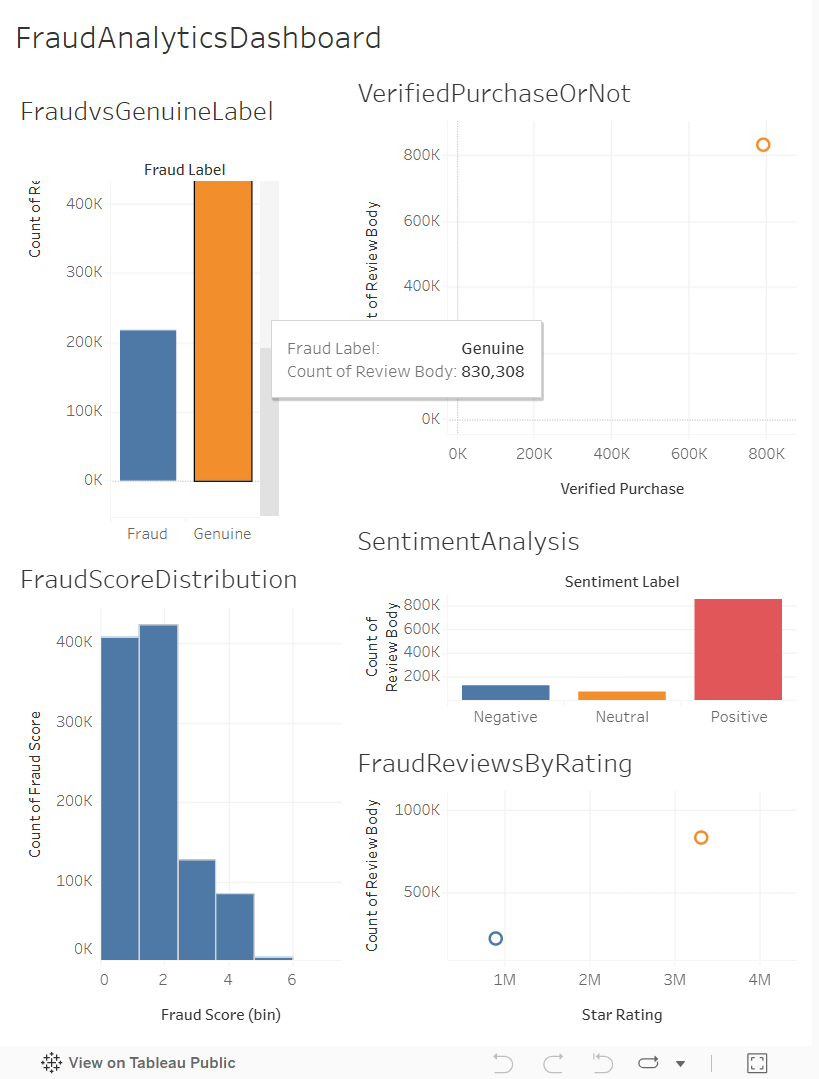

What the dashboard file says about the page in this screenshot:
{"tool":"tableau","page":{"name":"FraudAnalyticsDashboard","canvas":[650,860],"ordinal":0},"visuals":[{"type":"title","box":[8,8.5,634,53]},{"type":"worksheet","title":"FraudvsGenuineLabel","mark":"Automatic","rows":["review_body"],"cols":["fraud_label"],"box":[8,61.4,270,395]},{"type":"worksheet","title":"VerifiedPurchaseOrNot","mark":"Automatic","rows":["review_body"],"cols":["verified_purchase"],"box":[278,61.4,364,379.2]},{"type":"worksheet","title":"SentimentAnalysis","mark":"Automatic","rows":["review_body"],"cols":["sentiment_label"],"box":[278,440.6,364,188.5]},{"type":"worksheet","title":"FraudScoreDistribution","mark":"Automatic","rows":["fraud_score"],"cols":["Fraud Score (bin)"],"box":[8,456.4,270,395.1]},{"type":"worksheet","title":"FraudReviewsByRating","mark":"Automatic","rows":["review_body"],"cols":["star_rating"],"box":[278,629.1,364,222.4]}]}

Visuals, with their boxes on the page's 650x860 design canvas (x1, y1, x2, y2). These are canvas units, not pixel positions in the 819x1079 screenshot, which may show the page scaled, cropped or inside an application window:
title: bbox=(8, 8, 642, 62)
"FraudvsGenuineLabel" worksheet: bbox=(8, 61, 278, 456)
"VerifiedPurchaseOrNot" worksheet: bbox=(278, 61, 642, 441)
"SentimentAnalysis" worksheet: bbox=(278, 441, 642, 629)
"FraudScoreDistribution" worksheet: bbox=(8, 456, 278, 852)
"FraudReviewsByRating" worksheet: bbox=(278, 629, 642, 852)
